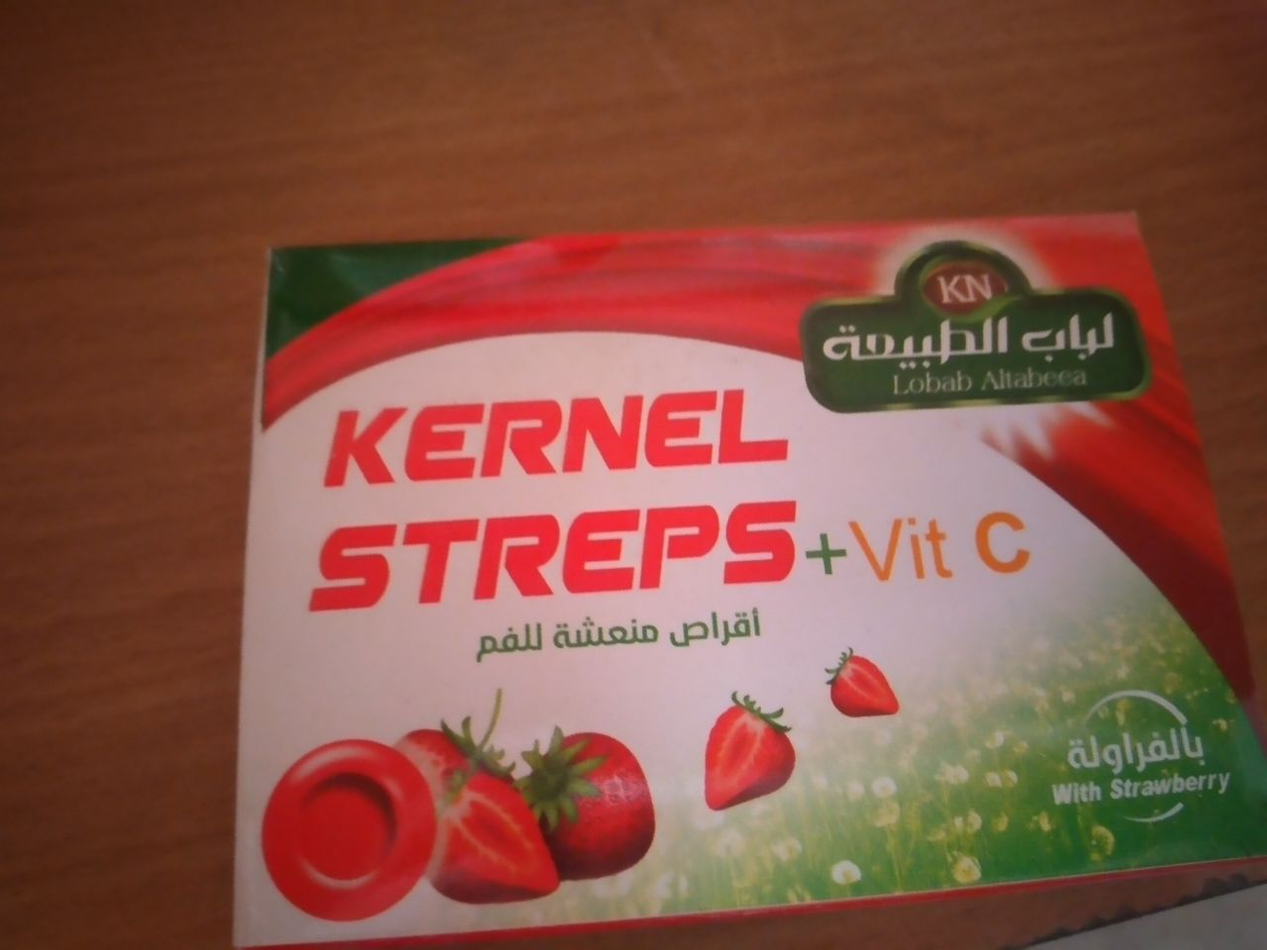Medicine: (243, 205, 1267, 950)
